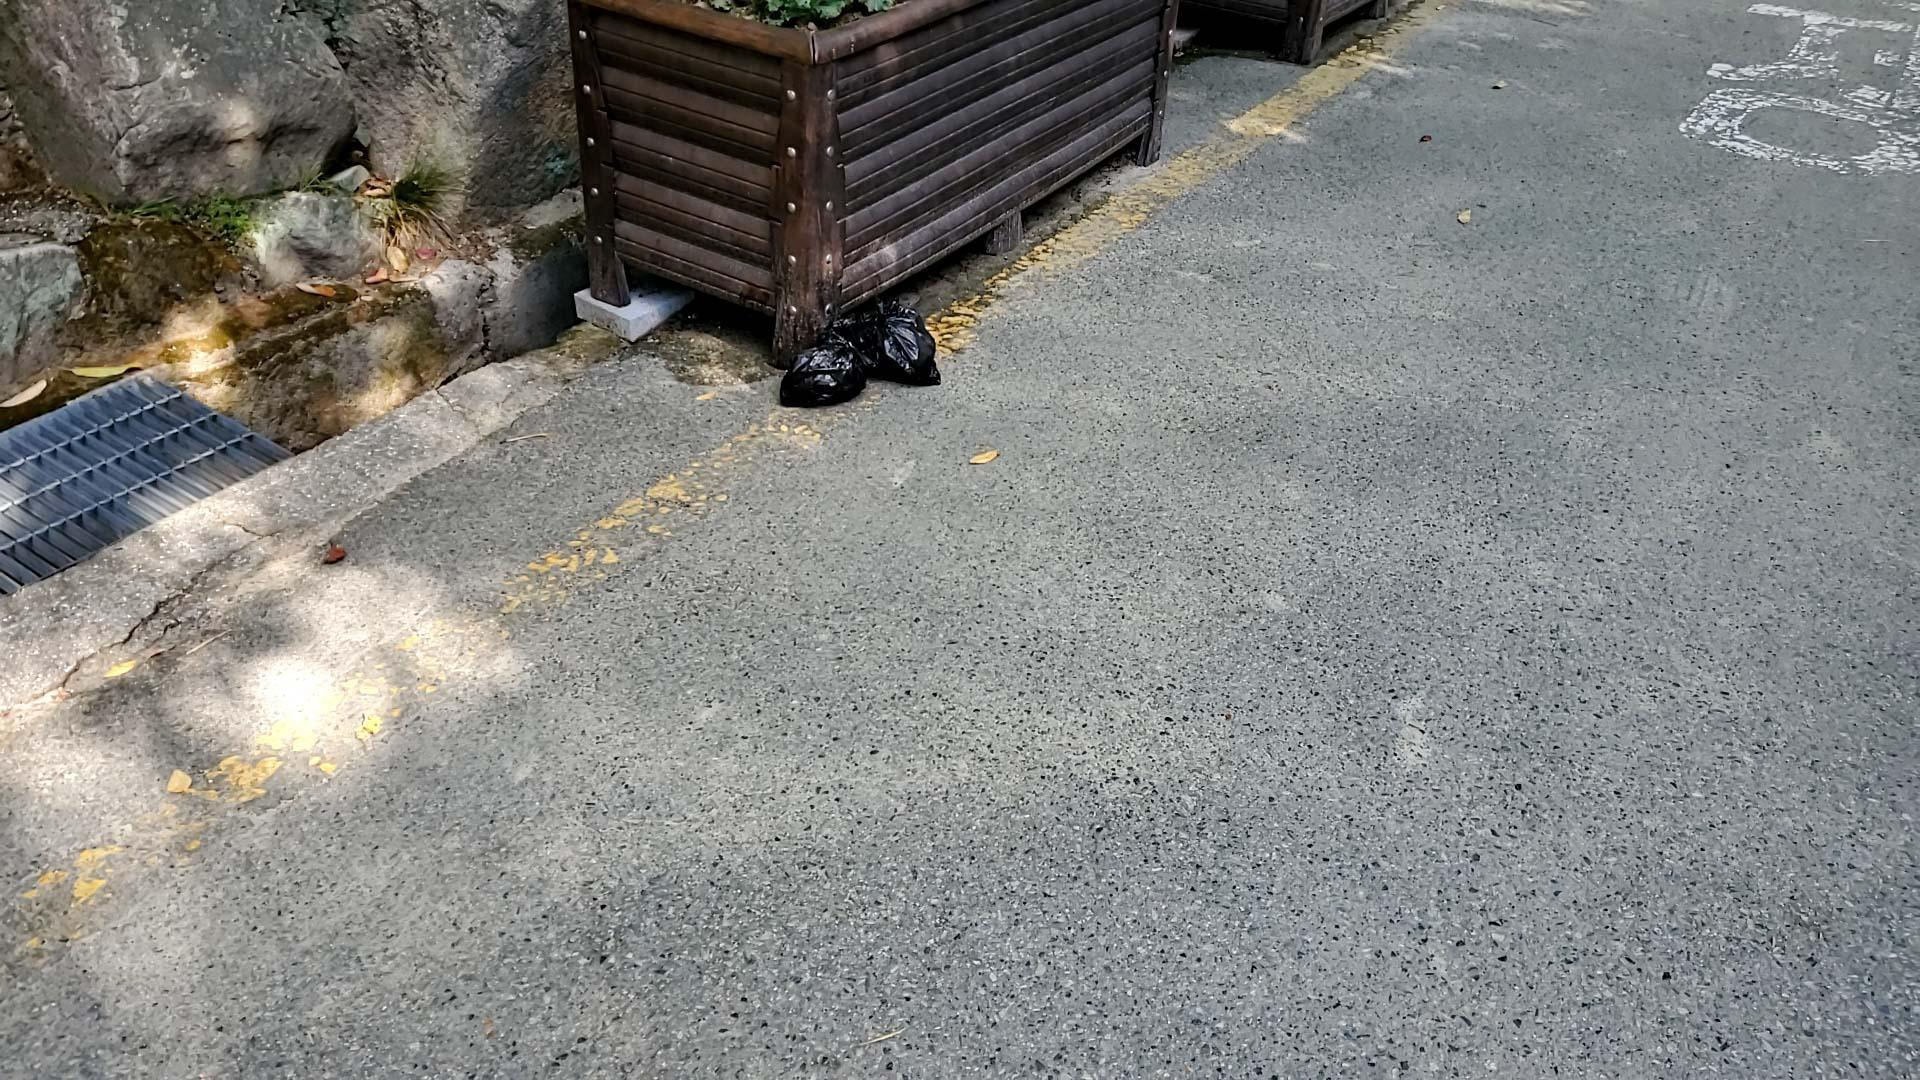black_bag: (853, 297, 949, 393), (771, 319, 872, 410)
